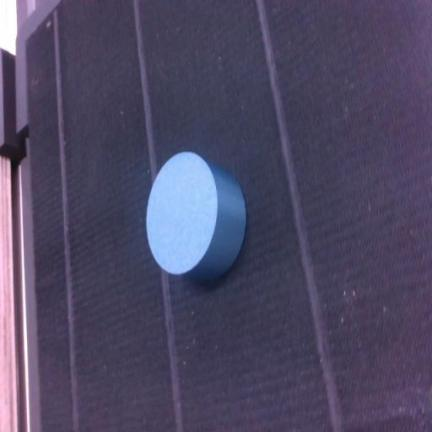cylinder: (147, 152, 246, 279)
